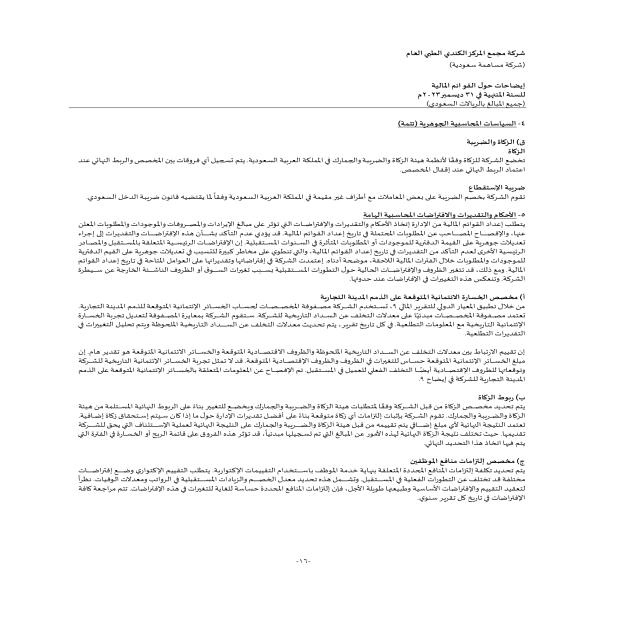notes: (414, 80, 534, 91)
text: (46, 134, 551, 517)
